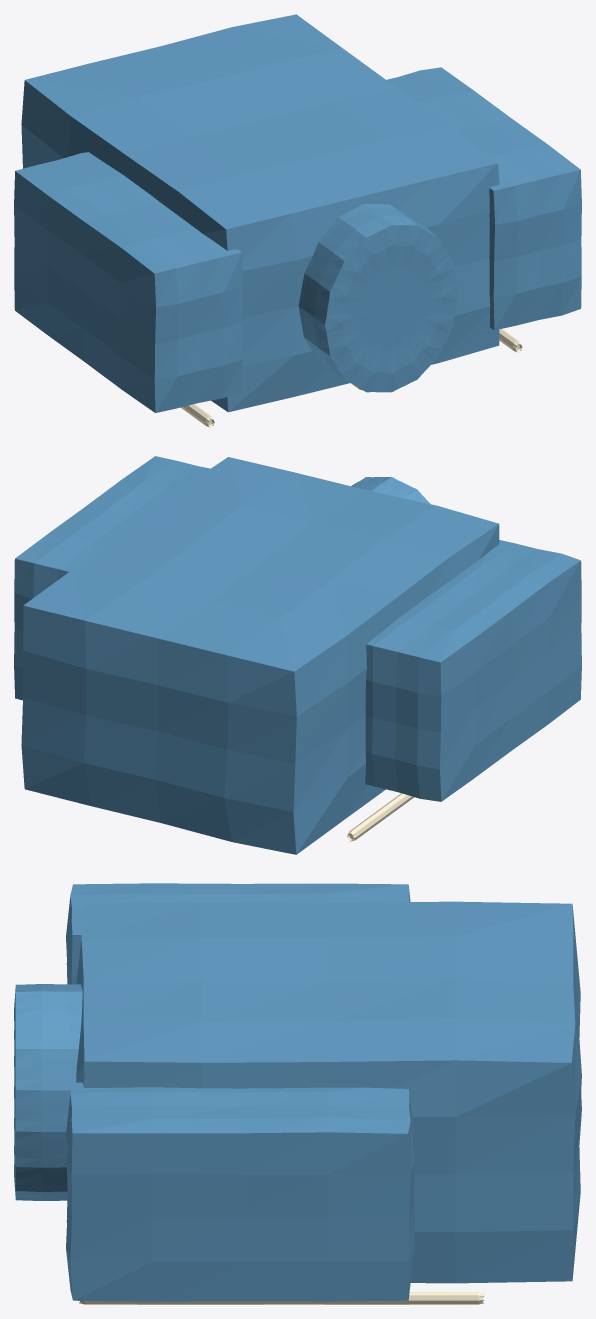
Rendered from camiseta-azul.glb.
The picture shows the model from 3 angles, top to bottom: view 1: azimuth 30°, elevation 25°; view 2: azimuth 150°, elevation 25°; view 3: azimuth 270°, elevation 25°; orthographic projection. The views are drawn at different scales.
Parts seen in each view (by area): view 1: camiseta-azul_00, camiseta-azul_02, camiseta-azul_01, camiseta-azul_03; view 2: camiseta-azul_00, camiseta-azul_02, camiseta-azul_03, camiseta-azul_01, Detalle_01; view 3: camiseta-azul_00, camiseta-azul_03, camiseta-azul_01, camiseta-azul_02, Detalle_02.
Part boxes in pixels (bbox=[...]): camiseta-azul_00: bbox=[21, 14, 499, 412]; camiseta-azul_02: bbox=[14, 152, 242, 412]; camiseta-azul_01: bbox=[298, 204, 458, 392]; camiseta-azul_03: bbox=[386, 67, 581, 330]; camiseta-azul_00: bbox=[21, 457, 499, 854]; camiseta-azul_02: bbox=[365, 540, 581, 801]; camiseta-azul_03: bbox=[14, 456, 210, 700]; camiseta-azul_01: bbox=[351, 476, 430, 503]; Detalle_01: bbox=[347, 793, 414, 841]; camiseta-azul_00: bbox=[76, 901, 581, 1283]; camiseta-azul_03: bbox=[66, 1082, 414, 1301]; camiseta-azul_01: bbox=[14, 984, 82, 1200]; camiseta-azul_02: bbox=[66, 883, 410, 984]; Detalle_02: bbox=[79, 1291, 484, 1304].
Size of the model in its own units: 1.17 by 0.5406 by 1.12.
